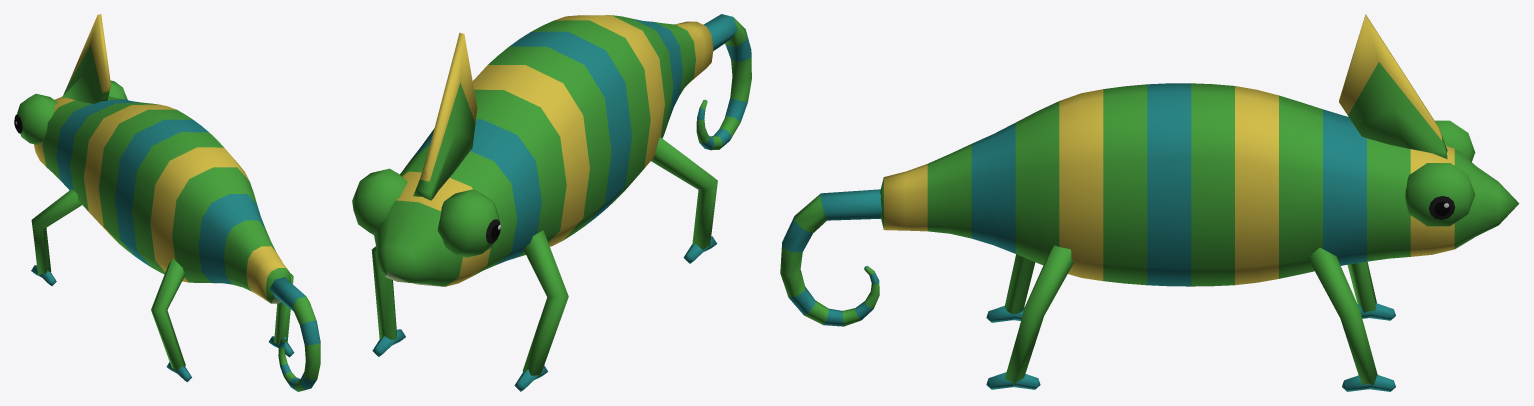
Rendered from chameleon.glb.
The picture shows the model from 3 angles, left to right: view 1: azimuth 30°, elevation 25°; view 2: azimuth 150°, elevation 25°; view 3: azimuth 270°, elevation 25°; orthographic projection. The views are drawn at different scales.
Visible parts, largest first — view 1: chameleon; view 2: chameleon; view 3: chameleon.
Part boxes in pixels (box(x1,y1,x2,y2)): chameleon: box(14, 14, 320, 391); chameleon: box(352, 14, 751, 391); chameleon: box(780, 14, 1519, 391).
Bounding box in the file's own units: 0.6912 × 1.13 × 2.22.
